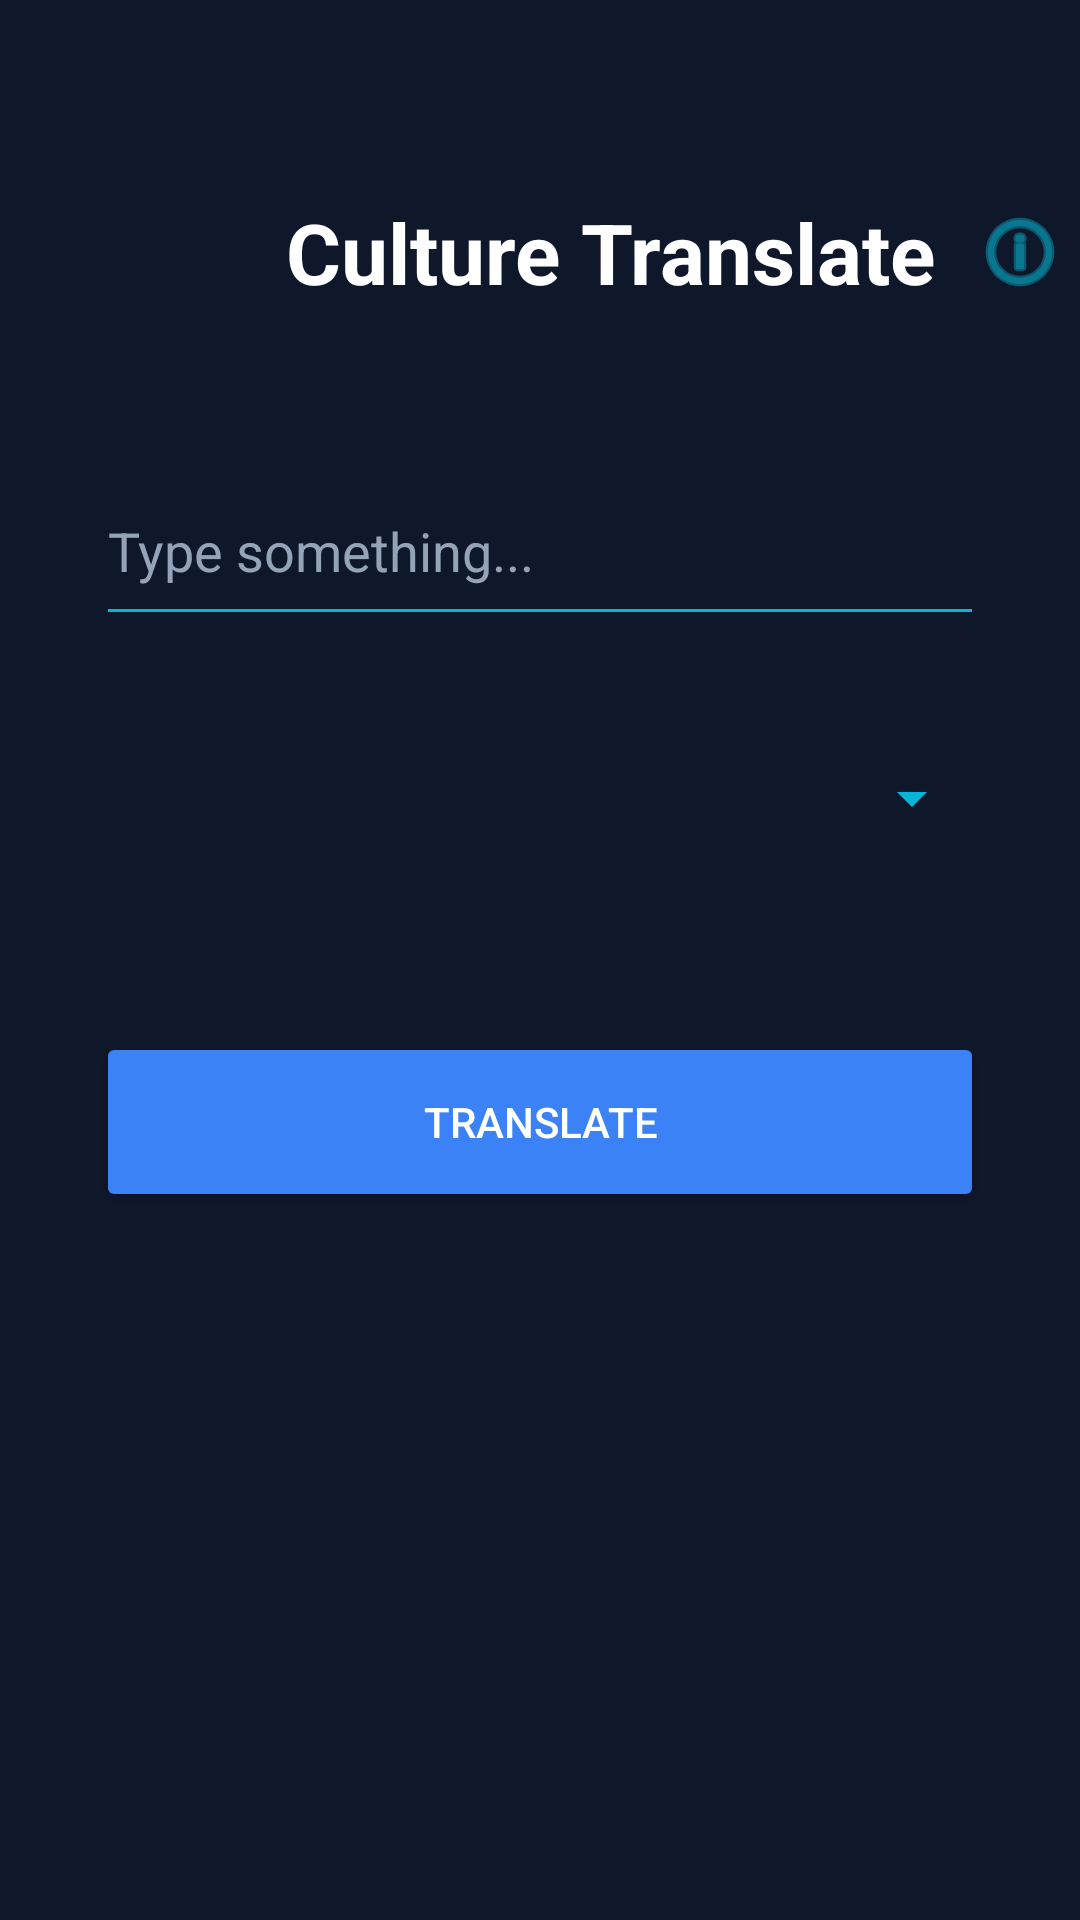

Icons on this 1080 x 1920 Android screen, each with the point to tap as [x,y]:
Information Button: [1020,252]
